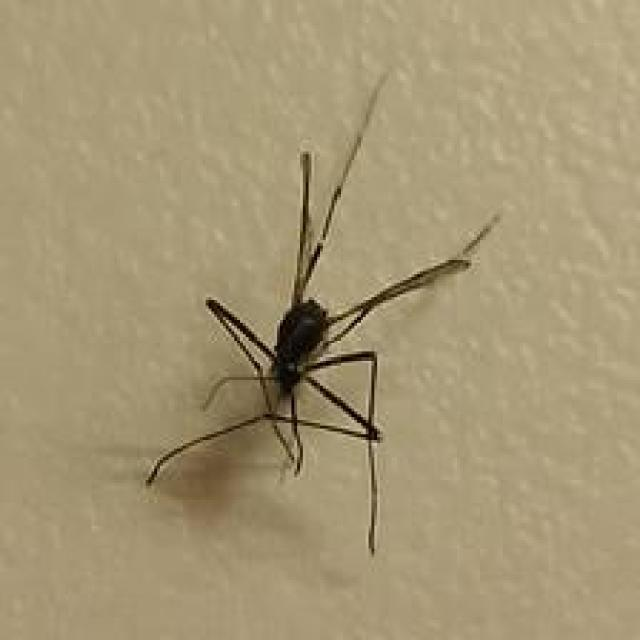Aedes albopictus: (143, 70, 503, 556)
